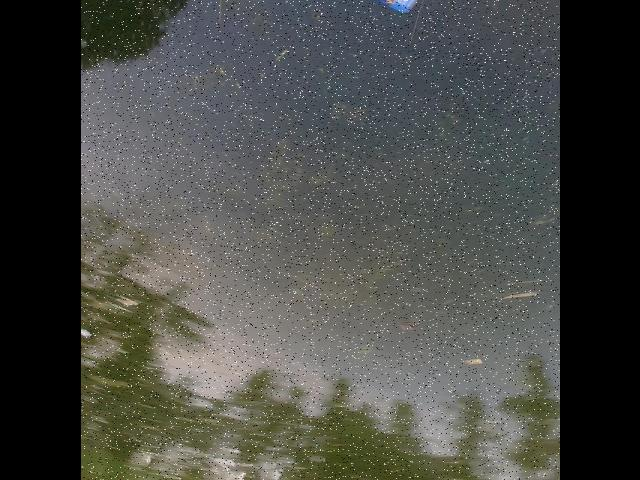Bottle: (277, 0, 434, 21)
